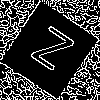Z: (24, 25, 76, 80)
